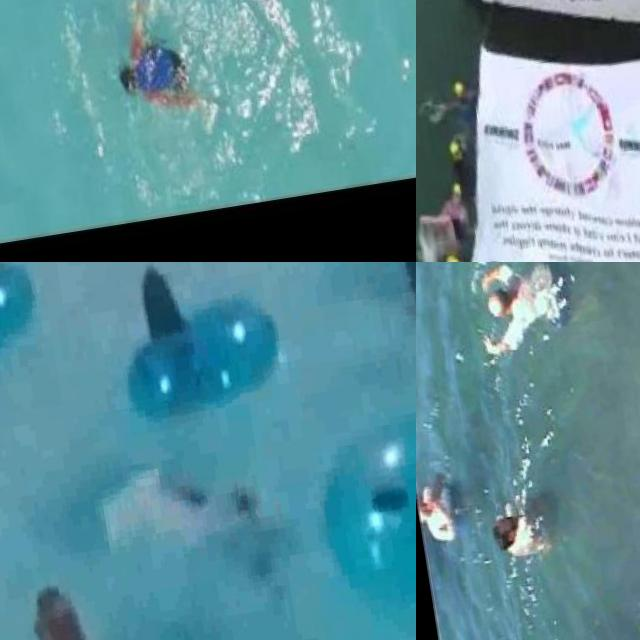drowning: (79, 434, 282, 590)
swimming: (116, 1, 214, 146), (463, 262, 589, 364), (488, 470, 568, 564), (417, 454, 472, 558), (432, 246, 470, 262)
